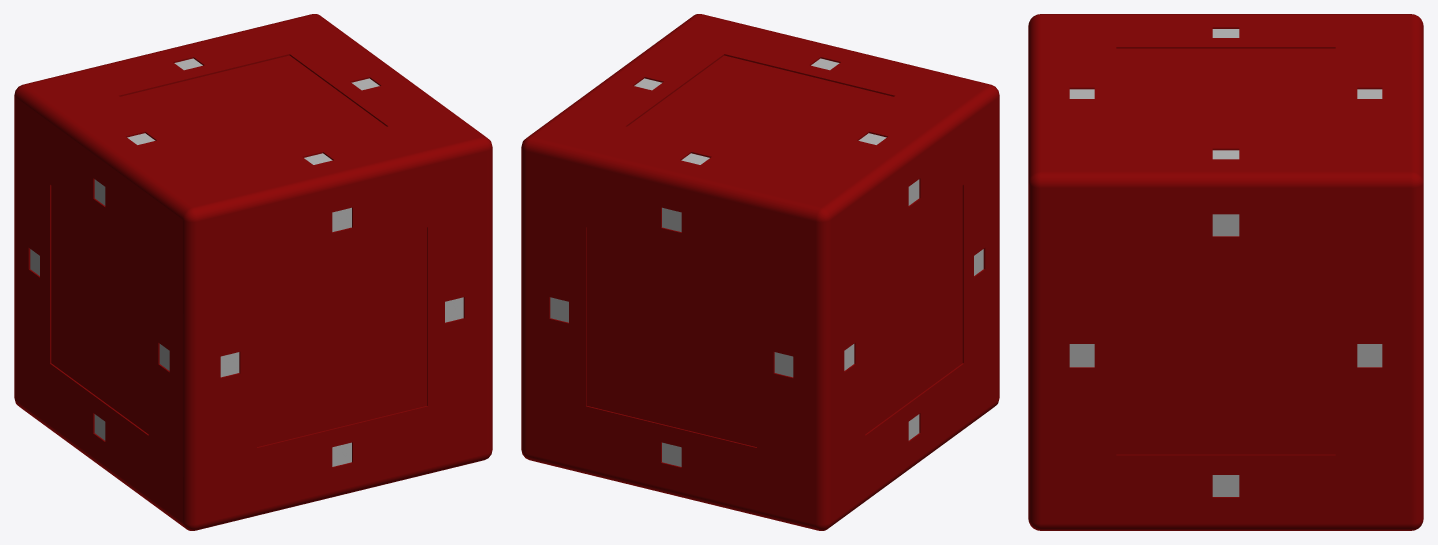
Rendered from block.glb.
3 renders of one model, left to right at view 1: azimuth 30°, elevation 25°; view 2: azimuth 150°, elevation 25°; view 3: azimuth 270°, elevation 25°, orthographic. The views are drawn at different scales.
Parts seen in each view (by area): view 1: mesh 1 block, mesh 2 leds; view 2: mesh 1 block, mesh 2 leds; view 3: mesh 1 block, mesh 2 leds.
Boxes of the visible parts, x1,y1,x2,y2 form: mesh 1 block: (14, 14, 492, 530); mesh 2 leds: (30, 58, 463, 466); mesh 1 block: (521, 14, 999, 530); mesh 2 leds: (550, 58, 983, 466); mesh 1 block: (1028, 14, 1423, 530); mesh 2 leds: (1069, 29, 1382, 496).
Size of the model in its own units: 0.055 by 0.055 by 0.055.
